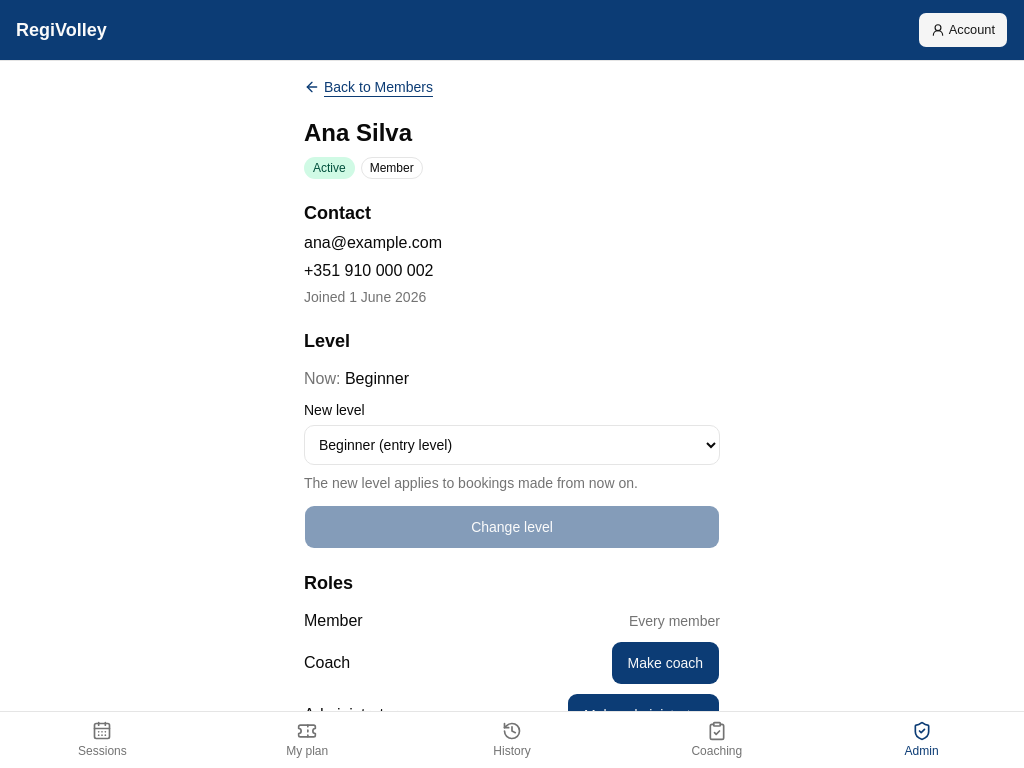
Test: changing the level › shows the API refusal next to the level
Expected: the heading "Ana Silva" is shown, [304, 119, 412, 146]
Step 1. Select "Intermediate" in the dropdown labelled "New level" → (512, 445), box [304, 425, 720, 465]
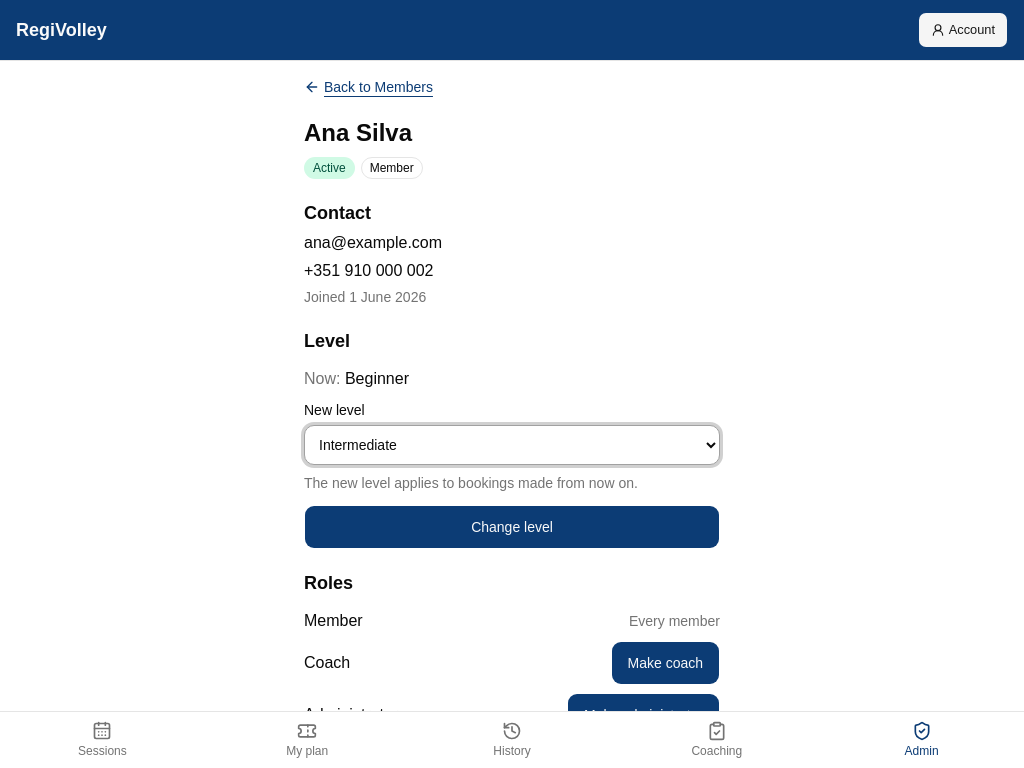
Step 2. Click the button "Change level" → (512, 527), box [304, 505, 720, 549]
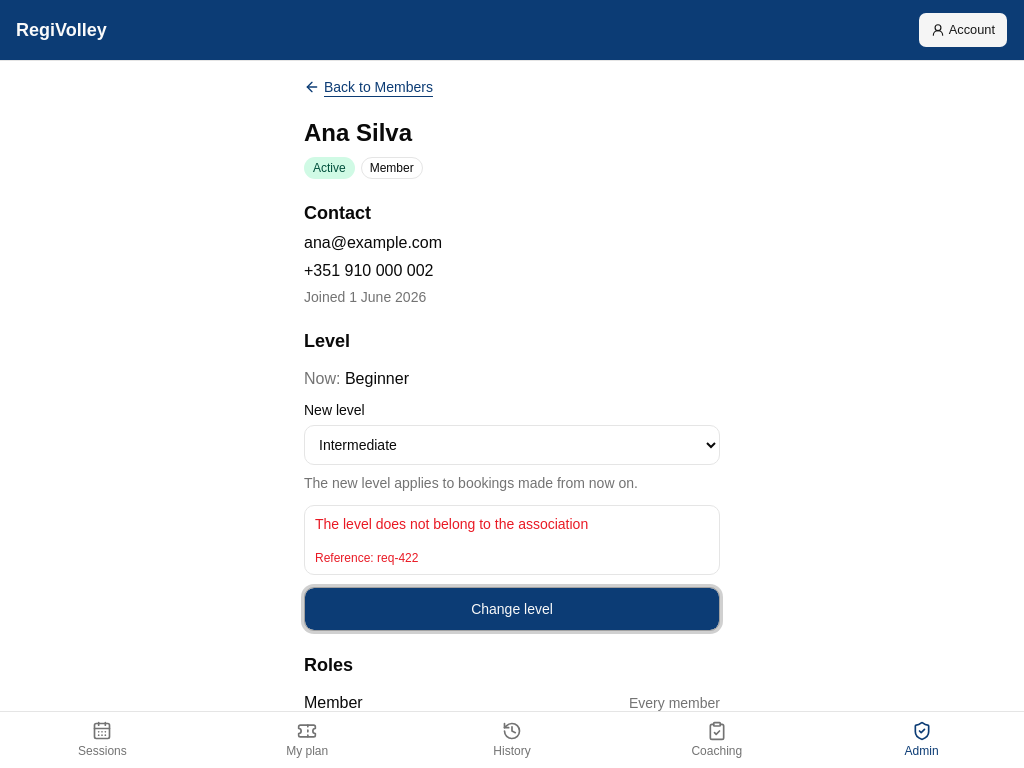
Result: the message shows "The level does not belong to the association" at [315, 516, 588, 532]
Result: the message shows "Reference: req-422" at [304, 505, 720, 575]
